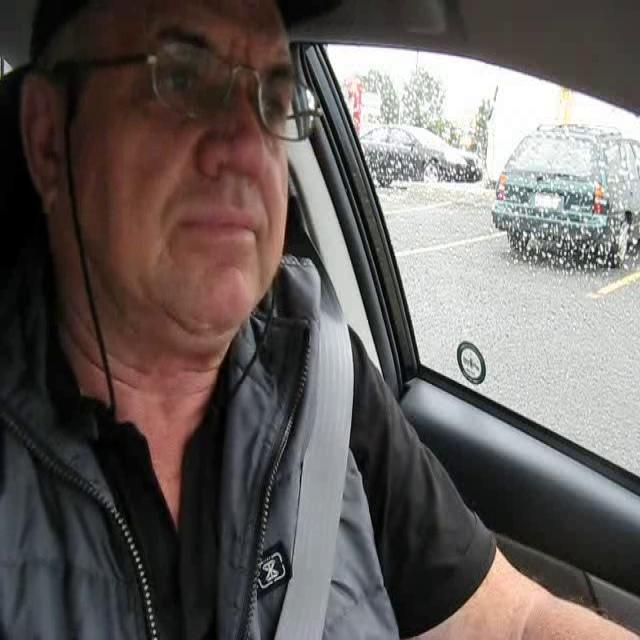close: (174, 202, 267, 249)
